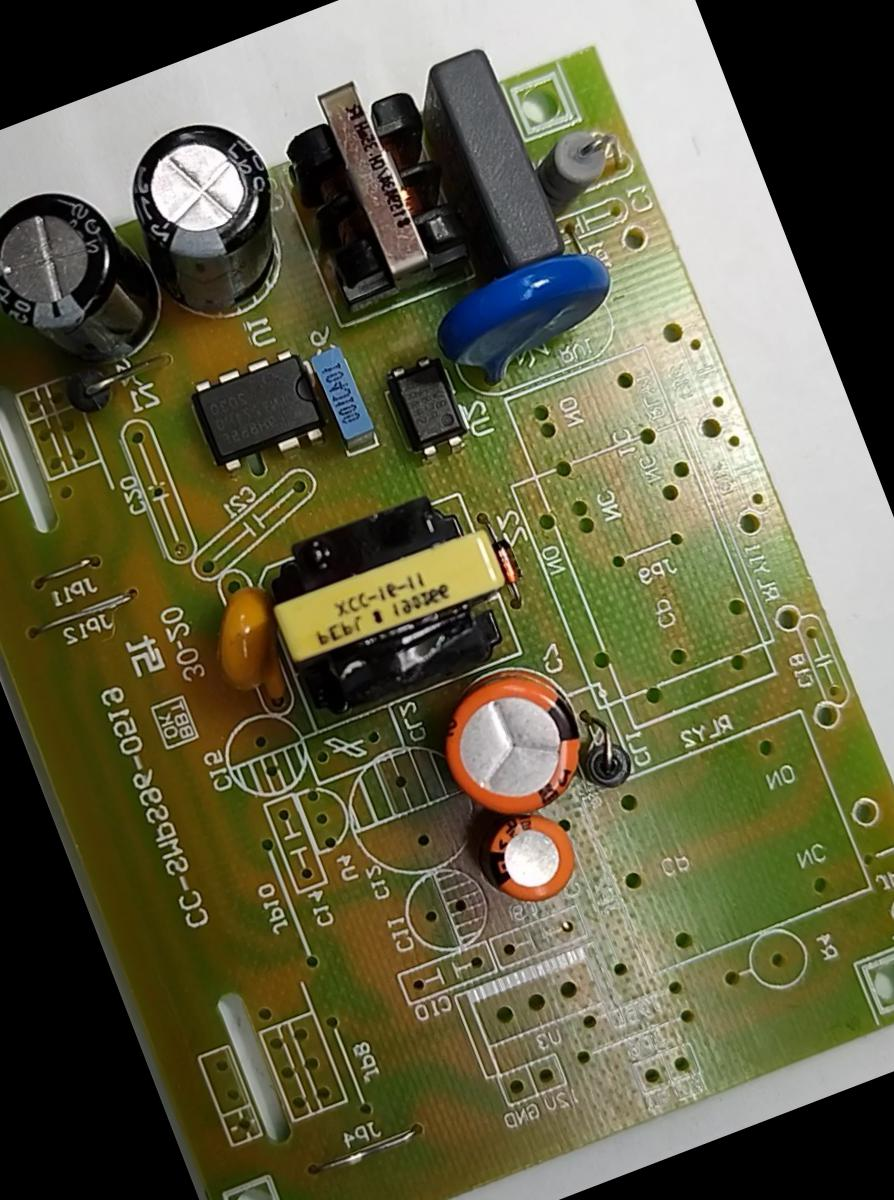Cap1: (404, 640, 617, 848)
Cap2: (458, 787, 599, 921)
Cap3: (95, 88, 316, 338)
Cap4: (0, 147, 191, 418)
MOSFET: (170, 331, 345, 491)
Mov: (405, 224, 642, 409)
Resistor: (515, 112, 631, 222)
Transformer: (236, 465, 539, 741), (249, 46, 497, 334)
